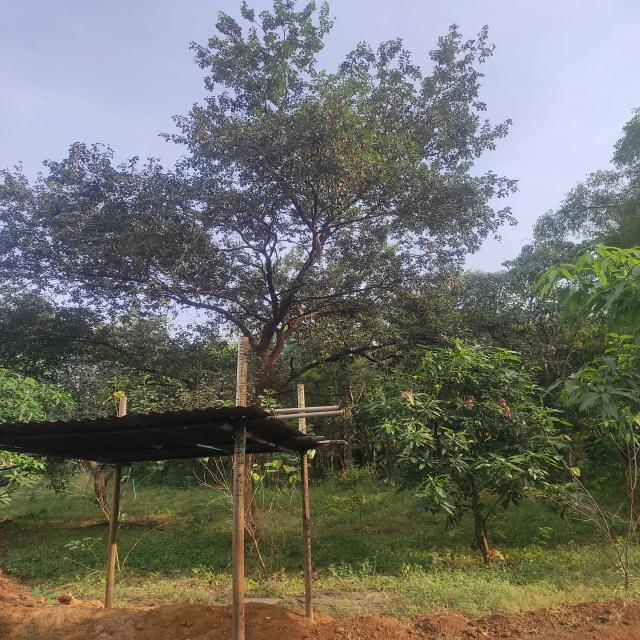Devakanchan tree: (36, 21, 519, 329)
Mango Tree: (395, 344, 555, 507), (541, 249, 640, 428)
